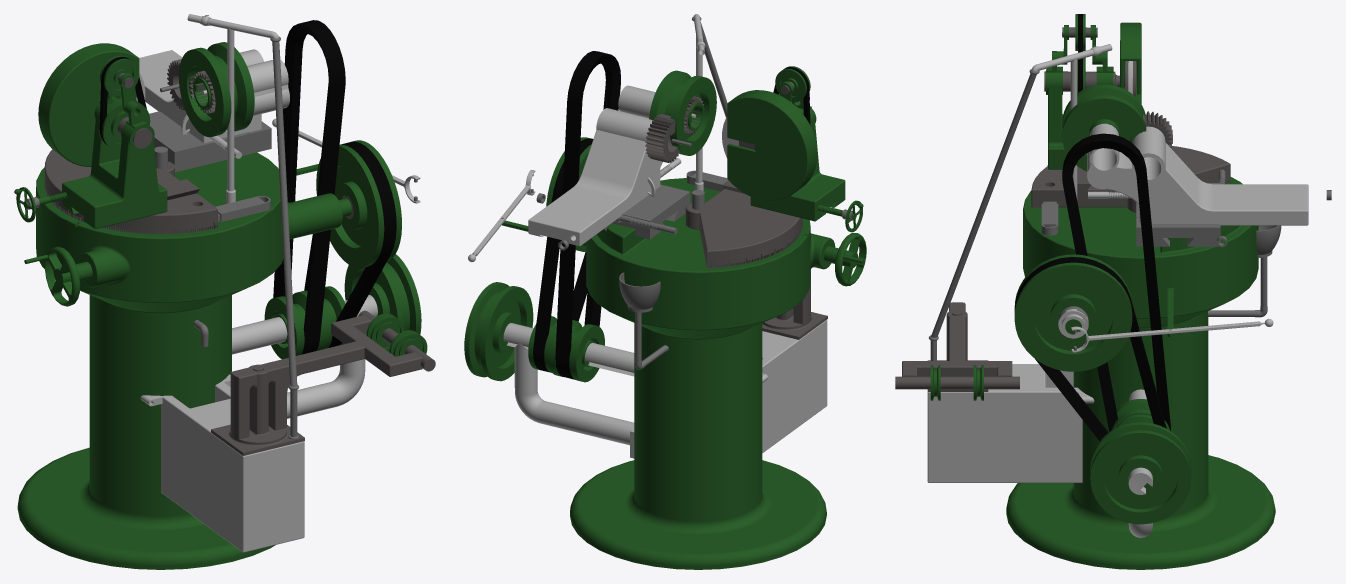
The model's file is Rodamientos GLTF.gltf.
The picture shows the model from 3 angles, left to right: view 1: azimuth 30°, elevation 25°; view 2: azimuth 150°, elevation 25°; view 3: azimuth 270°, elevation 25°; orthographic projection. The views are drawn at different scales.
Parts seen in each view (by area): view 1: Cortar-Extruir9, Redondeo1, Saliente-Extruir10, Obj_Barrer1_2, Obj_Redondeo1_2, Obj_Redondeo1_3, Saliente-Extruir2, Obj_Escala1_1, Obj_Redondeo1, Redondeo2, Obj_NONE, Obj_Barrer1_1 (+17 smaller); view 2: Cortar-Extruir9, Redondeo2, Obj_Redondeo1_3, Redondeo1, Obj_Redondeo1, Obj_Barrer1_2, Obj_Saliente-Extruir2_2, Obj_Escala1, Obj_Escala1_1, Obj_Barrer1_1, Obj_Redondeo1_2, Obj_NONE (+14 smaller); view 3: Cortar-Extruir9, Redondeo1, Redondeo2, Saliente-Extruir2, Obj_Saliente-Extruir2_2, Obj_Barrer1_2, Saliente-Extruir10, Obj_Escala1_1, Obj_Redondeo1, Obj_Barrer1_1, Barrer3, Obj_NONE (+10 smaller).
Boxes of the visible parts, left/top/right/bottom form: Cortar-Extruir9: left=17, top=152, right=342, bottom=569; Redondeo1: left=140, top=374, right=304, bottom=552; Saliente-Extruir10: left=211, top=310, right=435, bottom=455; Obj_Barrer1_2: left=273, top=20, right=345, bottom=354; Obj_Redondeo1_2: left=62, top=116, right=167, bottom=229; Obj_Redondeo1_3: left=38, top=43, right=139, bottom=166; Saliente-Extruir2: left=316, top=140, right=401, bottom=268; Obj_Escala1_1: left=179, top=42, right=254, bottom=137; Obj_Redondeo1: left=44, top=149, right=217, bottom=234; Redondeo2: left=139, top=49, right=289, bottom=142; Obj_NONE: left=149, top=112, right=271, bottom=172; Obj_Barrer1_1: left=304, top=141, right=396, bottom=347; Cortar-Extruir9: left=502, top=178, right=835, bottom=569; Redondeo2: left=528, top=85, right=662, bottom=246; Obj_Redondeo1_3: left=727, top=90, right=817, bottom=201; Redondeo1: left=762, top=319, right=827, bottom=452; Obj_Redondeo1: left=685, top=180, right=802, bottom=268; Obj_Barrer1_2: left=555, top=51, right=620, bottom=379; Obj_Saliente-Extruir2_2: left=464, top=282, right=533, bottom=381; Obj_Escala1: left=514, top=342, right=634, bottom=458; Obj_Escala1_1: left=649, top=70, right=716, bottom=155; Obj_Barrer1_1: left=533, top=138, right=593, bottom=372; Obj_Redondeo1_2: left=750, top=120, right=845, bottom=221; Obj_NONE: left=612, top=184, right=690, bottom=239; Cortar-Extruir9: left=1006, top=177, right=1275, bottom=569; Redondeo1: left=927, top=364, right=1094, bottom=482; Redondeo2: left=1087, top=123, right=1308, bottom=225; Saliente-Extruir2: left=1014, top=254, right=1132, bottom=371; Obj_Saliente-Extruir2_2: left=1090, top=422, right=1191, bottom=524; Obj_Barrer1_2: left=1062, top=133, right=1170, bottom=431; Saliente-Extruir10: left=895, top=302, right=1019, bottom=391; Obj_Escala1_1: left=1062, top=84, right=1146, bottom=171; Obj_Redondeo1: left=1031, top=146, right=1230, bottom=212; Obj_Barrer1_1: left=1014, top=257, right=1166, bottom=441; Barrer3: left=928, top=69, right=1039, bottom=340; Obj_NONE: left=1136, top=183, right=1220, bottom=246.
Bounding box in the file's own units: 1.33 × 1.56 × 1.3.
